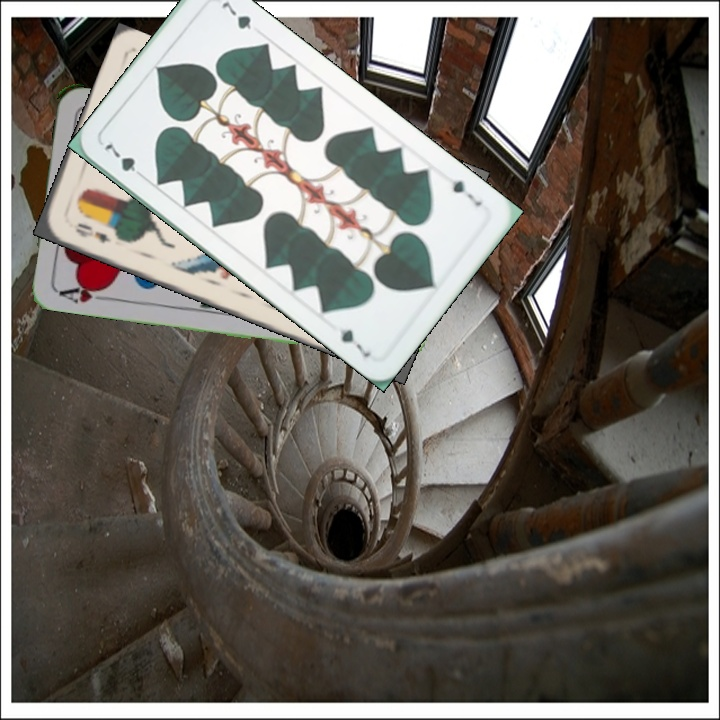EO: (71, 219, 115, 247)
G7: (100, 139, 149, 183), (448, 176, 485, 209)
HA: (54, 279, 114, 306)
